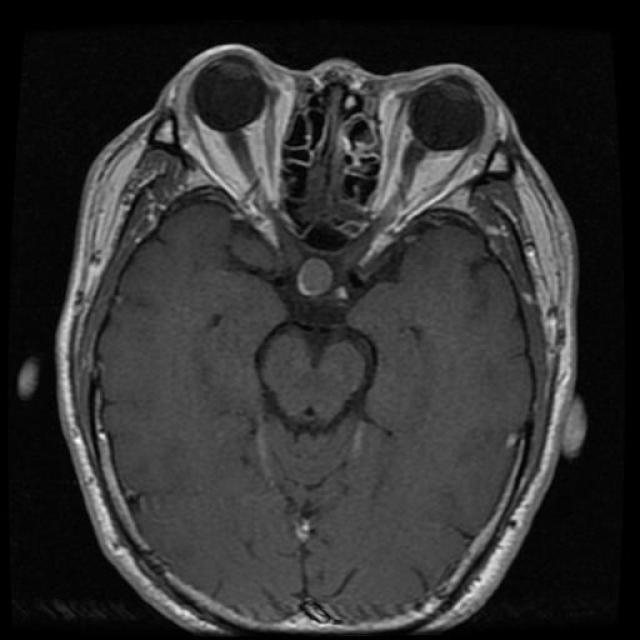pituitary: (274, 254, 356, 314)
